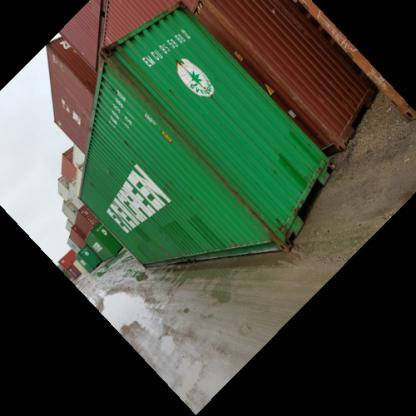Damage: (189, 134, 283, 246), (99, 54, 183, 140)
